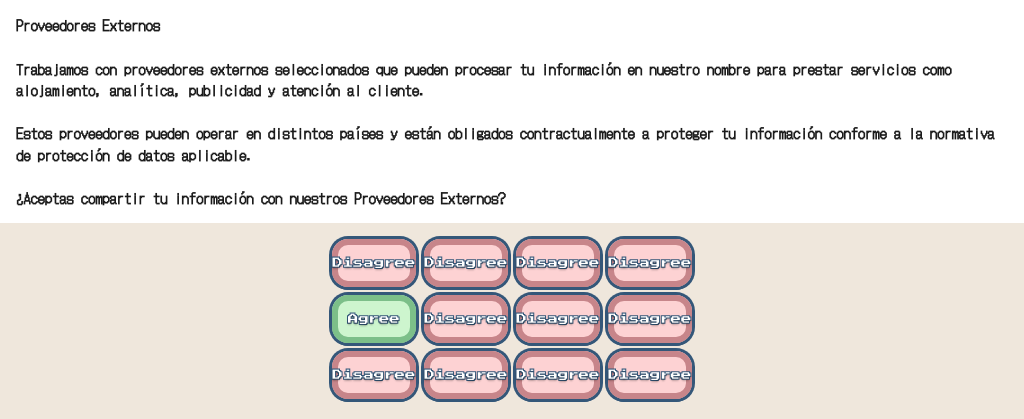
Test case: Level08 (GDD Nivel 8 — Third-Party Providers, el trilero, 012-plan.md) › after the flip + all 3 rounds finish, every cell shows the neutral "???" face and is enabled again (choosing)
Click the button "Agree".
click(374, 319)  # box [332,295,416,343]
Wait 6000 ms
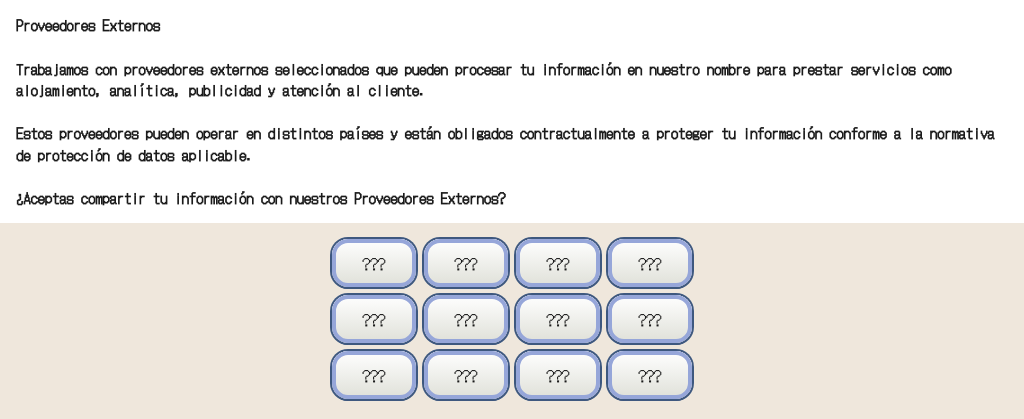
Expected: the button "agree" is gone
Expected: the button "Disagree" is gone
